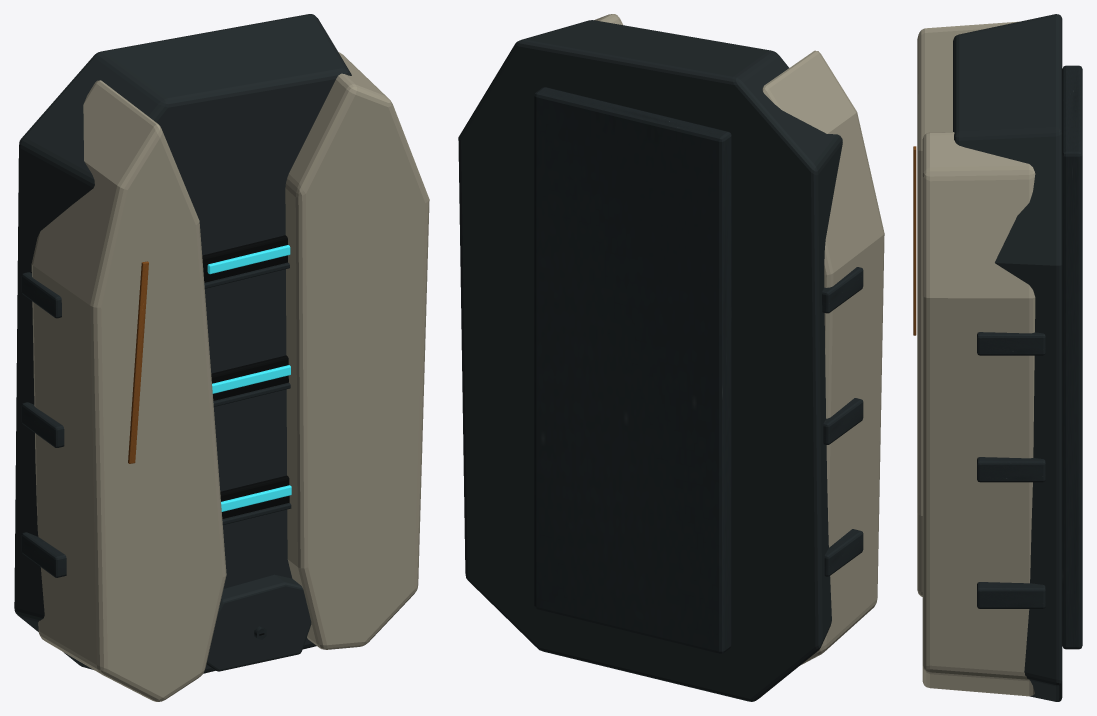
The model's file is auxiliary_reactor.glb.
3 views of the same model, side by side, from view 1: azimuth 30°, elevation 25°; view 2: azimuth 150°, elevation 25°; view 3: azimuth 270°, elevation 25° (orthographic). The views are drawn at different scales.
Parts seen in each view (by area): view 1: ivory, steel, rubber, cyan, paint; view 2: steel, ivory; view 3: ivory, steel, paint.
Boxes of the visible parts, x1,y1,x2,y2 form: ivory: (31,52,429,701); steel: (14,14,351,673); rubber: (202,235,289,635); cyan: (207,245,291,511); paint: (128,261,148,463); steel: (458,20,863,701); ivory: (594,14,884,665); ivory: (917,21,1035,696); steel: (953,14,1082,701); paint: (913,146,916,335).
Bounding box in the file's own units: 0.159 × 0.2591 × 0.0666.
Materials: 5 (4 with a texture image).
